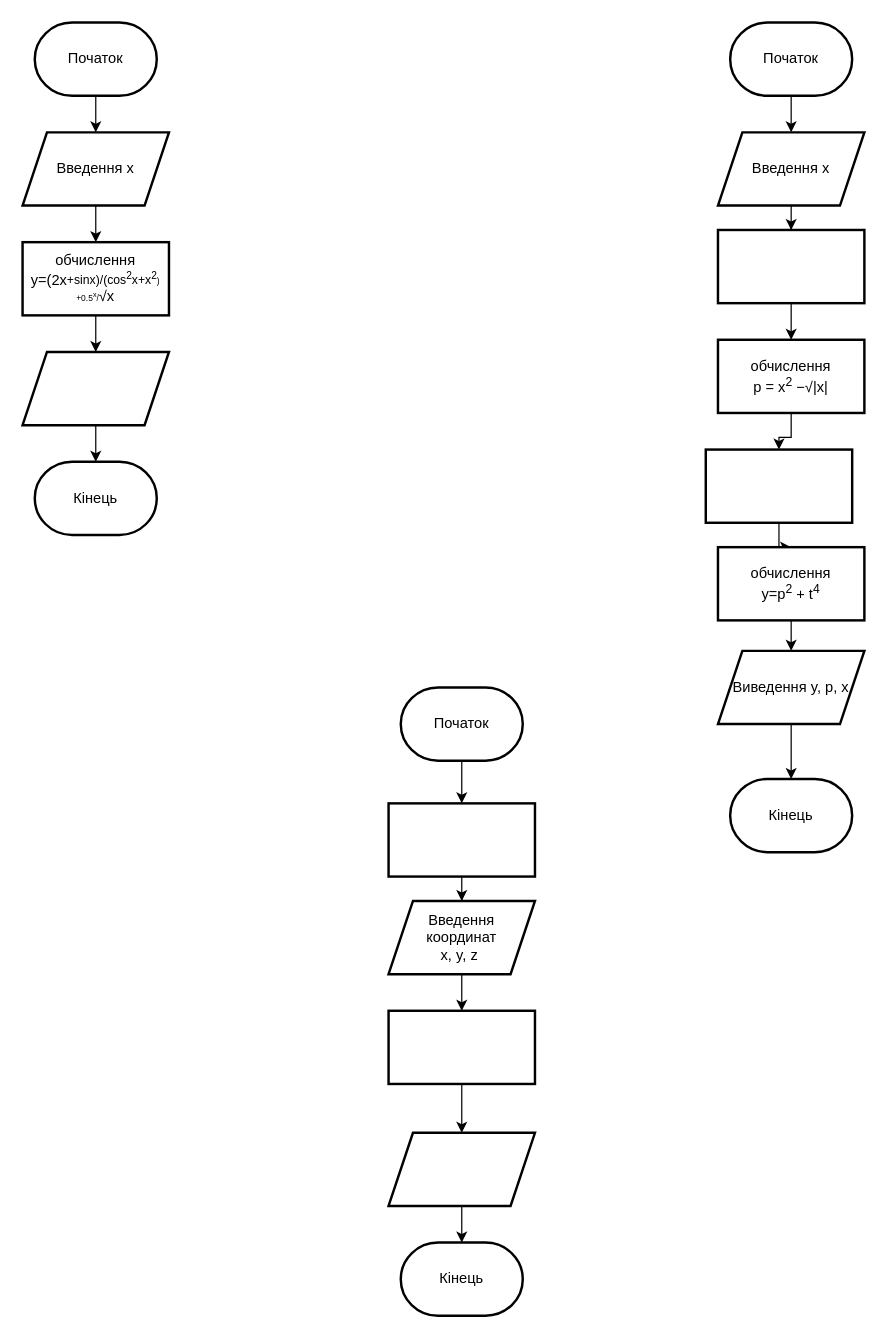
The diagram is 886 pixels wide and 1337 high, and some of its shapes have lost their labels. The centre of each missing label's shape, as x and y in pixels:
a = 3.7: the point at 790,266
x = 2, y= 1, z=3: the point at 461,839
Виведення p: the point at 461,1169
Виведення y: the point at 95,388
Обчислення p = (|ax 0 + y 0 + cz 0 +d|)/ √a 2 + b 2 + c 2: the point at 461,1047
обчислення t= 3 √x+a 2: the point at 778,485
